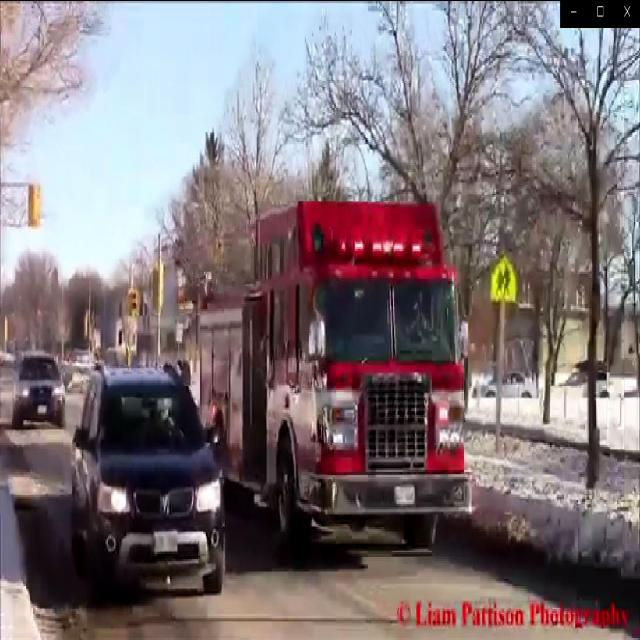emergency: (190, 198, 475, 561)
